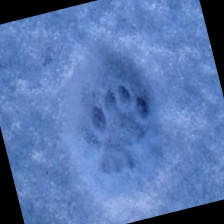cat: (96, 75, 163, 153)
